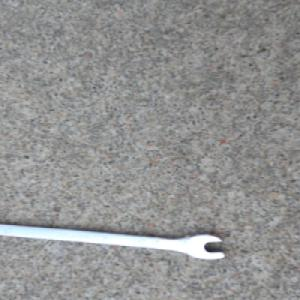Wrench: (0, 220, 228, 261)
